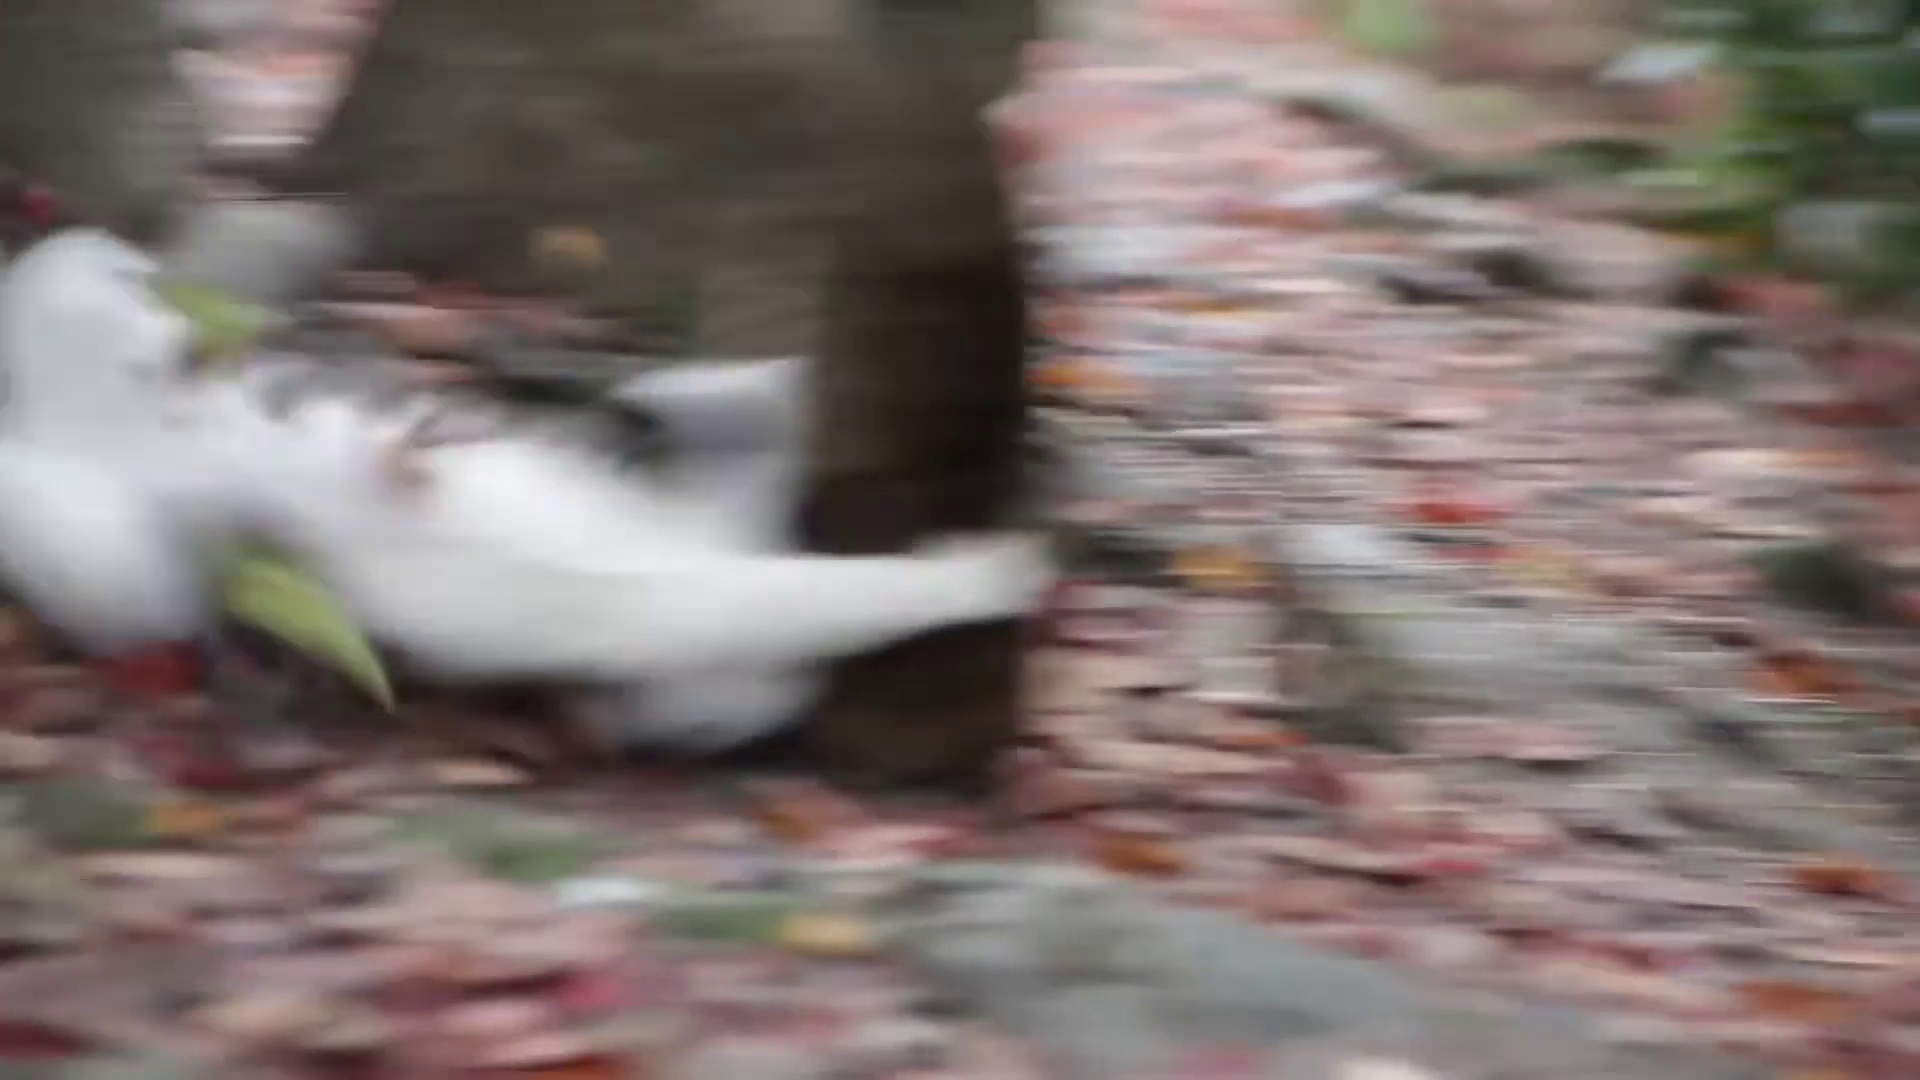black-white: (1, 219, 1058, 750)
